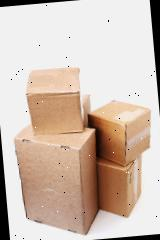paper: (13, 117, 105, 240), (86, 96, 154, 168), (23, 65, 85, 136), (95, 152, 147, 219), (81, 93, 93, 128)
